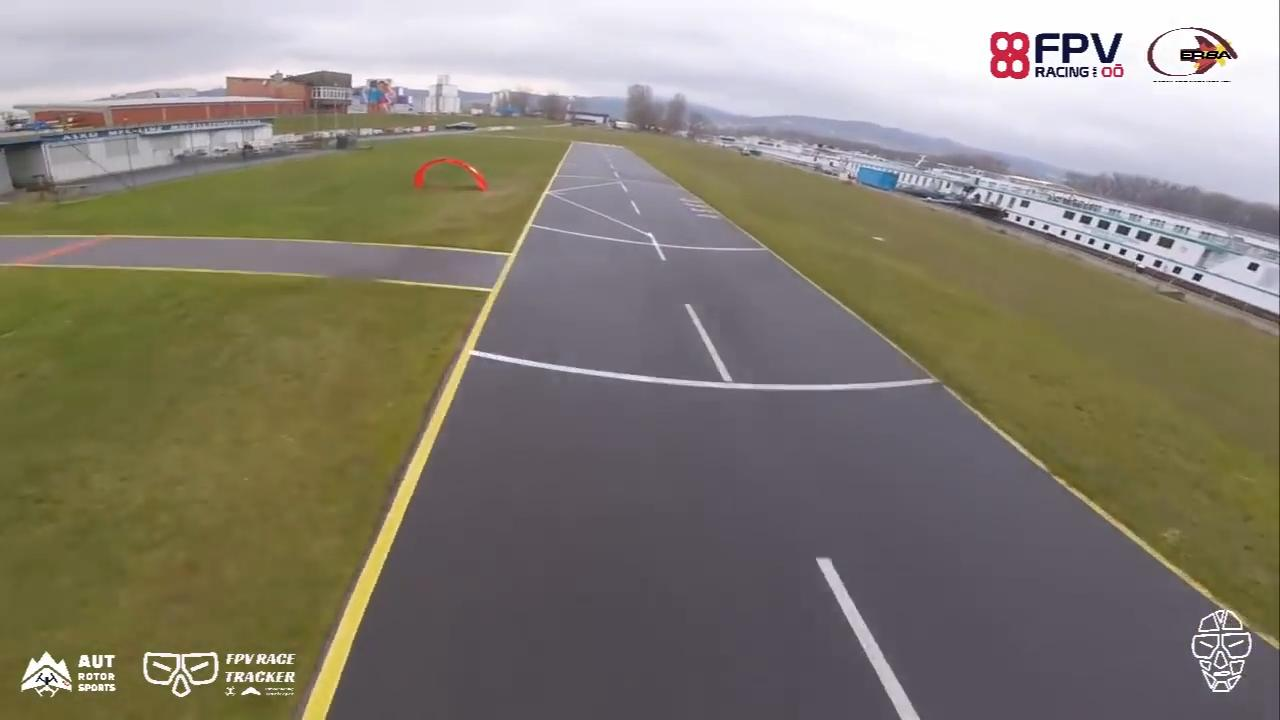gate: (413, 155, 485, 195)
